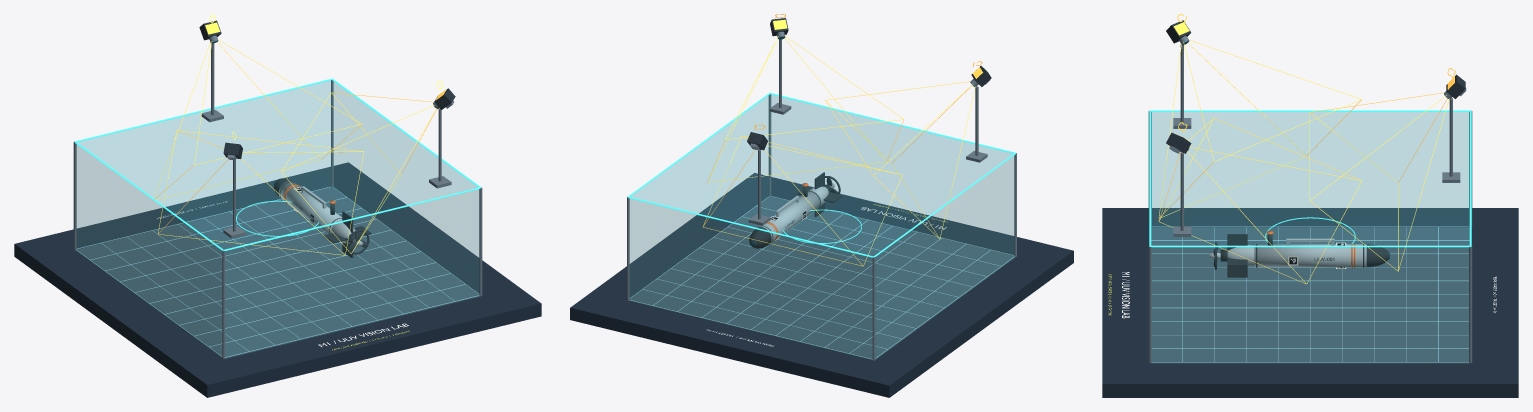
Rendered from m1_tank_scene.glb.
The picture shows the model from 3 angles, left to right: view 1: azimuth 30°, elevation 25°; view 2: azimuth 150°, elevation 25°; view 3: azimuth 270°, elevation 25°; orthographic projection. The views are drawn at different scales.
Visible parts, largest first — view 1: tank_bottom, water_surface, stage_plinth, tank_wall_y_-1, tank_wall_y_1, tank_wall_x_-1, tank_wall_x_1, Hull, mean_waterline_0, mean_waterline_2; view 2: tank_bottom, water_surface, stage_plinth, tank_wall_y_1, tank_wall_y_-1, tank_wall_x_-1, tank_wall_x_1, Hull, mean_waterline_2, mean_waterline_0; view 3: water_surface, tank_bottom, tank_wall_x_1, stage_plinth, tank_wall_x_-1, Hull, mean_waterline_1, metric_grid_y_6, metric_grid_y_4, mean_waterline_3, tank_corner_1, tank_corner_2 (+4 smaller).
Boxes of the visible parts, left/top/right/bottom form: tank_bottom: left=75, top=187, right=480, bottom=359; water_surface: left=78, top=80, right=477, bottom=248; stage_plinth: left=14, top=162, right=541, bottom=397; tank_wall_y_-1: left=225, top=189, right=478, bottom=357; tank_wall_y_1: left=77, top=81, right=330, bottom=247; tank_wall_x_-1: left=76, top=144, right=221, bottom=357; tank_wall_x_1: left=334, top=83, right=478, bottom=292; Hull: left=278, top=181, right=342, bottom=233; mean_waterline_0: left=223, top=187, right=480, bottom=250; mean_waterline_2: left=75, top=78, right=331, bottom=142; tank_bottom: left=628, top=196, right=1015, bottom=360; water_surface: left=631, top=94, right=1012, bottom=255; stage_plinth: left=570, top=173, right=1073, bottom=397; tank_wall_y_1: left=629, top=199, right=871, bottom=359; tank_wall_y_-1: left=772, top=95, right=1013, bottom=254; tank_wall_x_-1: left=876, top=156, right=1014, bottom=358; tank_wall_x_1: left=630, top=97, right=767, bottom=296; Hull: left=758, top=190, right=821, bottom=242; mean_waterline_2: left=628, top=196, right=873, bottom=257; mean_waterline_0: left=770, top=92, right=1015, bottom=153; water_surface: left=1152, top=112, right=1468, bottom=244; tank_bottom: left=1150, top=227, right=1470, bottom=363; tank_wall_x_1: left=1152, top=247, right=1468, bottom=362; stage_plinth: left=1102, top=208, right=1518, bottom=397; tank_wall_x_-1: left=1152, top=112, right=1468, bottom=225; Hull: left=1254, top=244, right=1366, bottom=267; mean_waterline_1: left=1150, top=245, right=1470, bottom=247; metric_grid_y_6: left=1152, top=307, right=1468, bottom=308; metric_grid_y_4: left=1152, top=280, right=1468, bottom=281; mean_waterline_3: left=1151, top=110, right=1469, bottom=111; tank_corner_1: left=1148, top=246, right=1151, bottom=363; tank_corner_2: left=1469, top=246, right=1472, bottom=363.
Size of the model in its own units: 6.5 by 4.14 by 6.5.
Materials: 19 (4 with a texture image).
